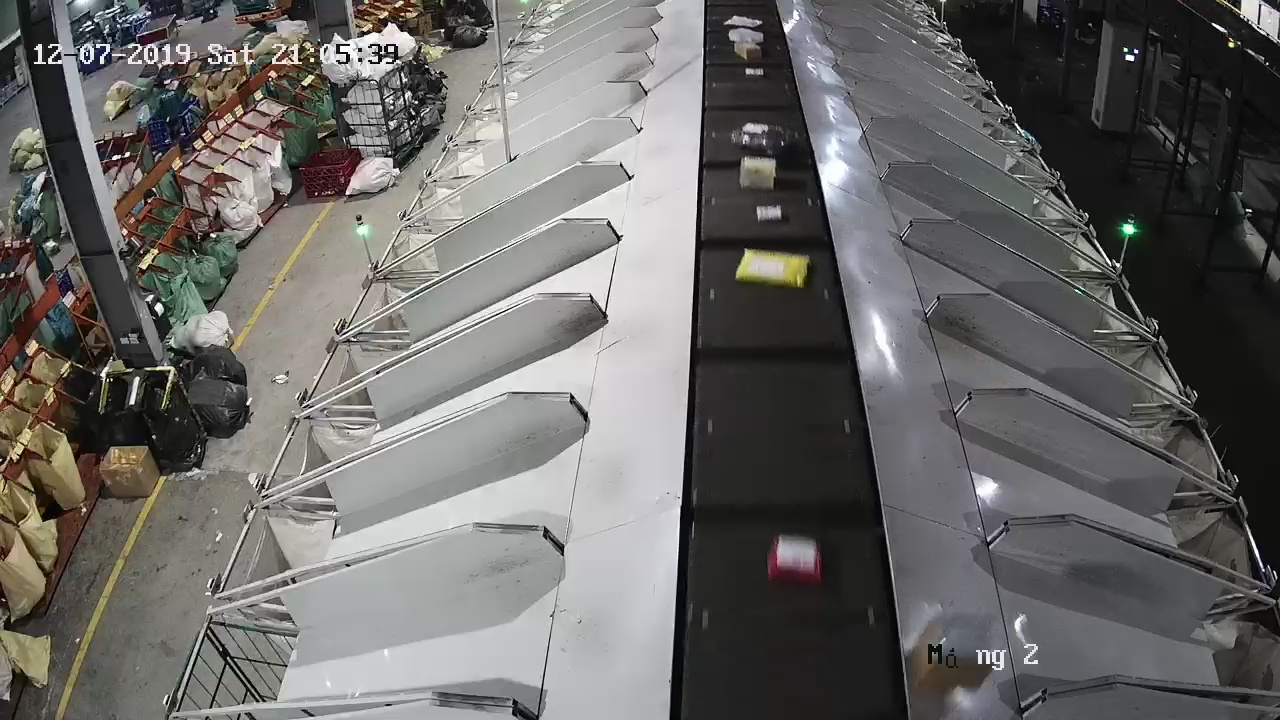parcel: (912, 610, 997, 693)
